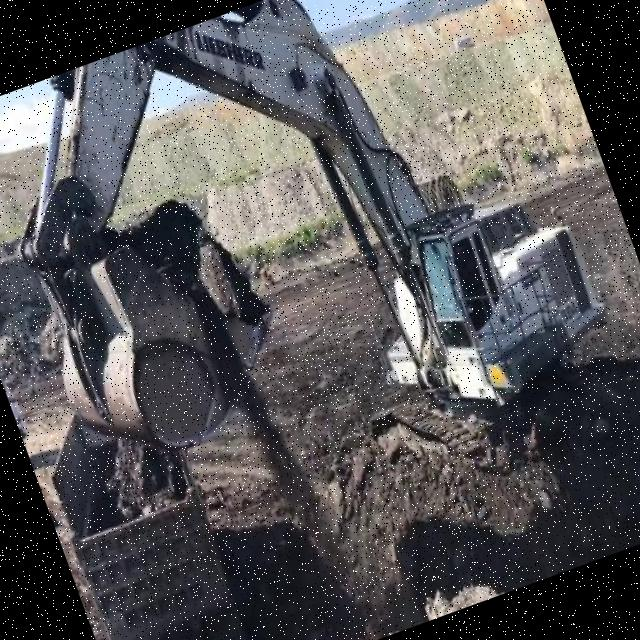Dump Truck: (34, 385, 270, 640)
Excavator: (0, 0, 634, 572)
